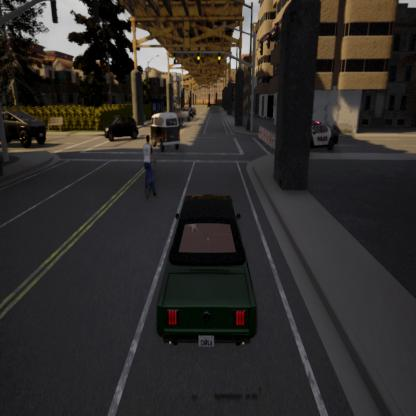Cars: (153, 186, 259, 355), (0, 103, 51, 151), (306, 116, 342, 156), (149, 112, 183, 154), (104, 113, 140, 141), (170, 104, 184, 131)
